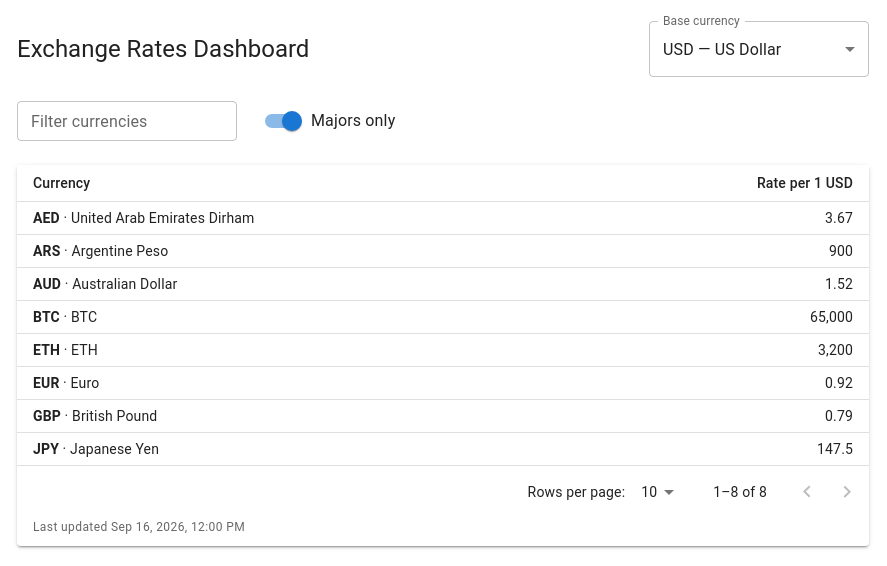
Test case: ExchangeRatesPage › shows a no-match message when the code filter matches nothing
The width and height of the screenshot is (887, 566).
Expected: the text "EUR" is shown, left=33, top=375, right=60, bottom=391
Type "zz" into the field labelled "Filter currencies" at {"x": 127, "y": 121}, box left=17, top=101, right=237, bottom=141
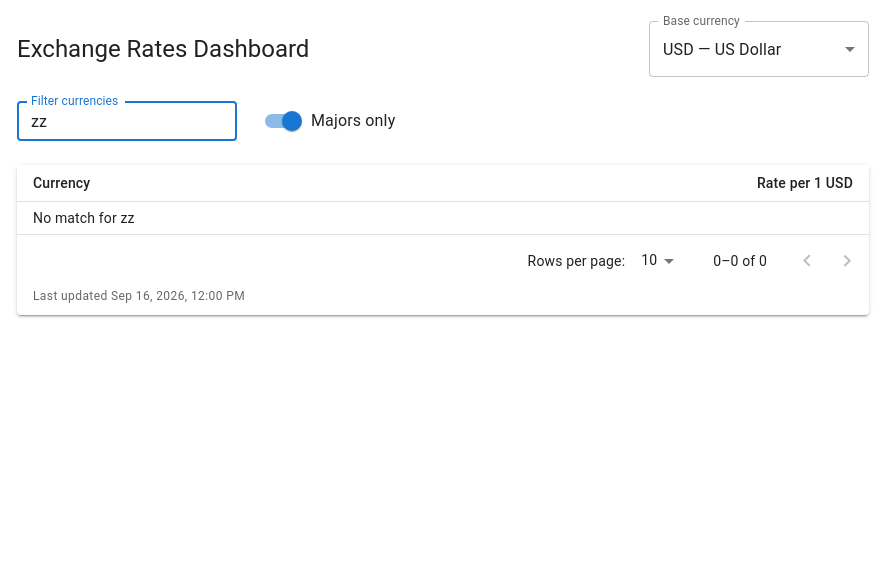
Now the text "No match for zz" is shown, box left=17, top=202, right=869, bottom=235
Now the text "EUR" is gone
